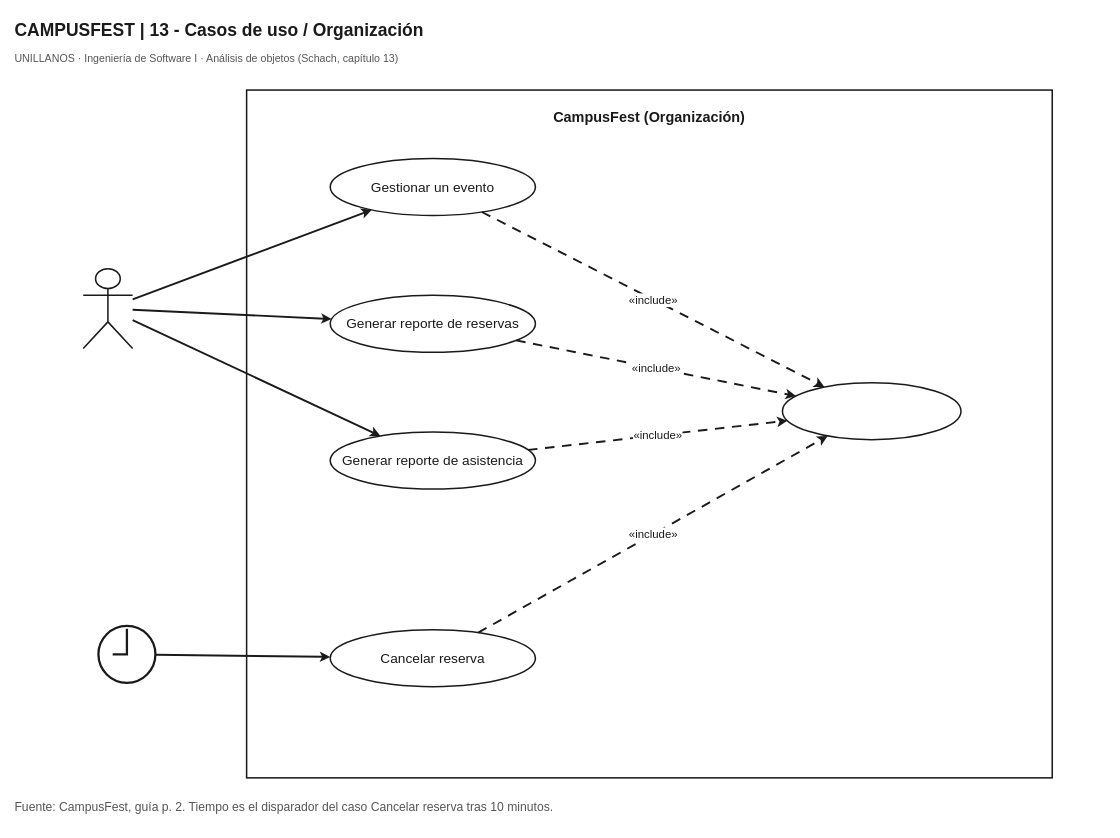
This 1120x838 diagram has some shape labels left out. Each missing label, with the centre of its shape:
"10 min de una reserva" goes at [126,654].
"Consultar eventos" goes at [871,411].
"Organizador" goes at [107,308].
